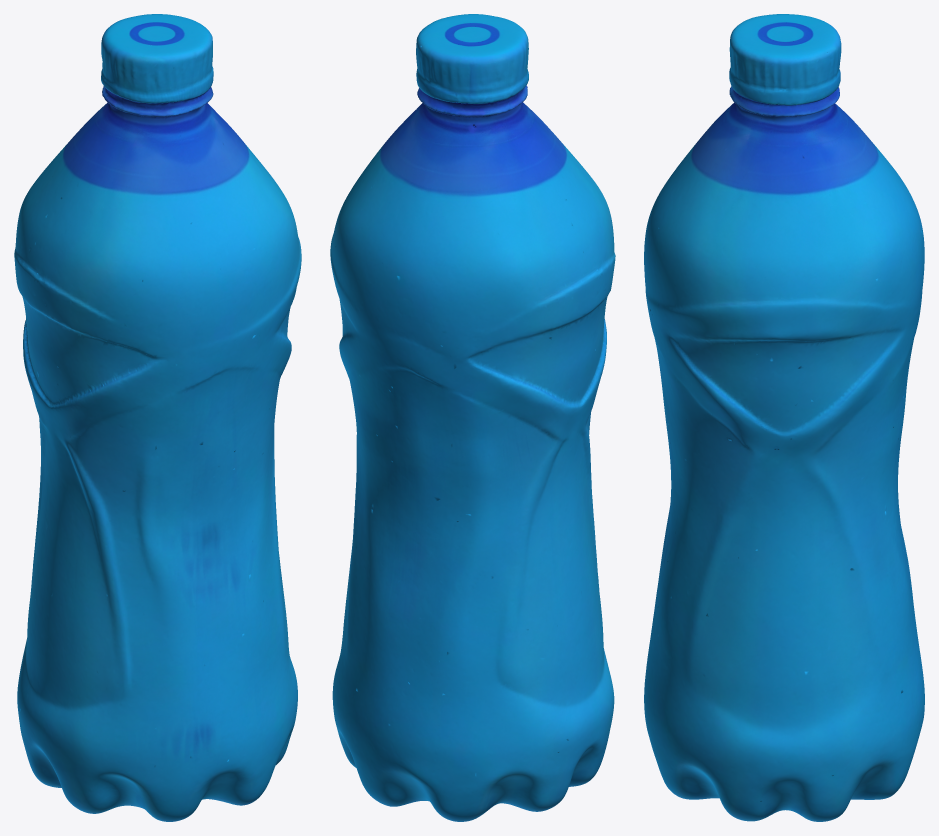
File: Water.fbx
The picture shows the model from 3 angles, left to right: view 1: azimuth 30°, elevation 25°; view 2: azimuth 150°, elevation 25°; view 3: azimuth 270°, elevation 25°; orthographic projection.
Parts seen in each view (by area): view 1: Mesh_0; view 2: Mesh_0; view 3: Mesh_0.
Part boxes in pixels (left/top/right/bottom): Mesh_0: left=14, top=14, right=301, bottom=821; Mesh_0: left=330, top=14, right=615, bottom=821; Mesh_0: left=644, top=14, right=924, bottom=821.
Size of the model in its own units: 69.99 by 200 by 68.16.
1 material, 1 textured.
